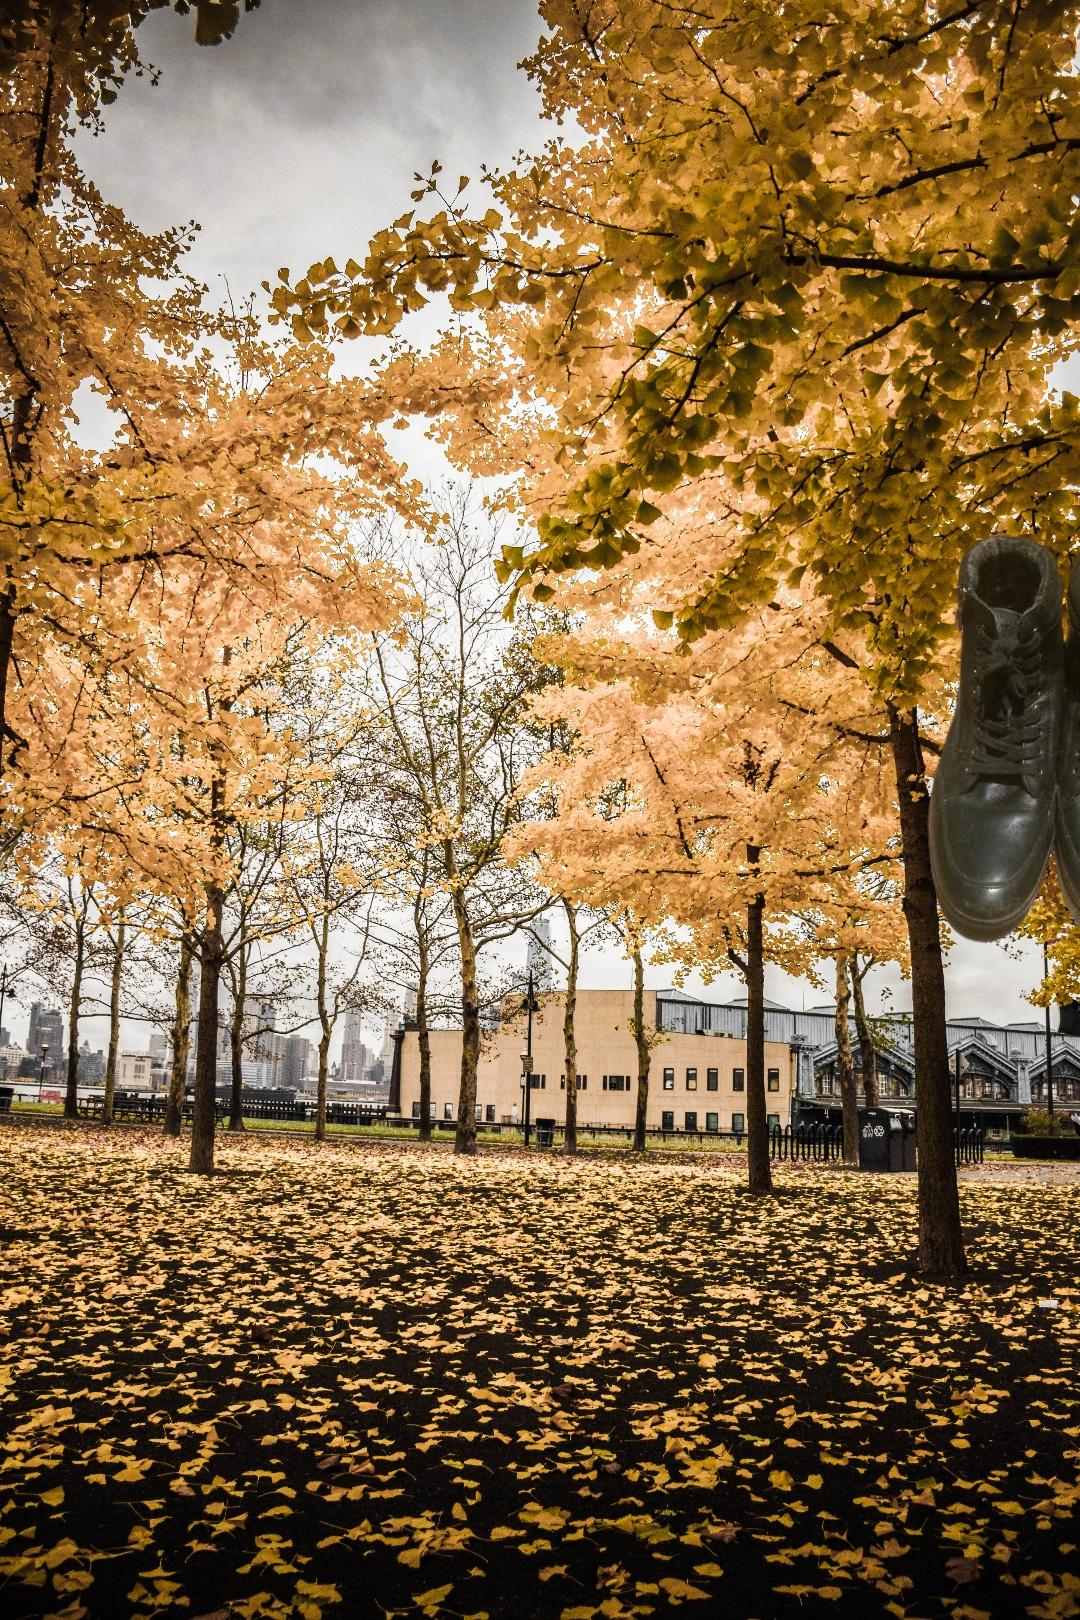shoes: (925, 530, 1080, 947)
